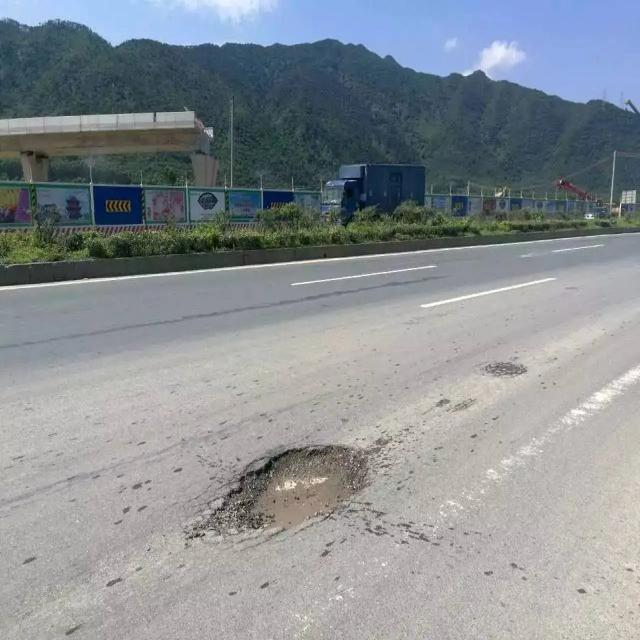Pothole: (183, 443, 376, 540)
